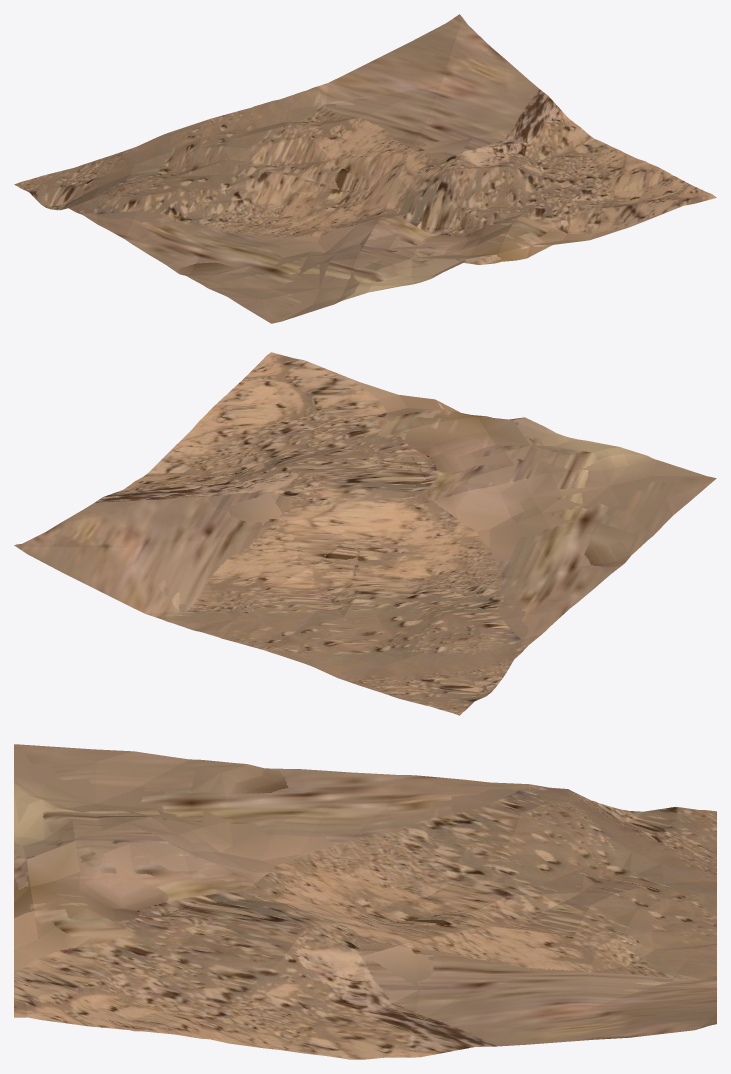
The picture shows the model from 3 angles, top to bottom: view 1: azimuth 30°, elevation 25°; view 2: azimuth 150°, elevation 25°; view 3: azimuth 270°, elevation 25°; orthographic projection. The views are drawn at different scales.
Size of the model in its own units: 1.04 by 0.1525 by 1.04.
Materials: 2 (2 with a texture image).
